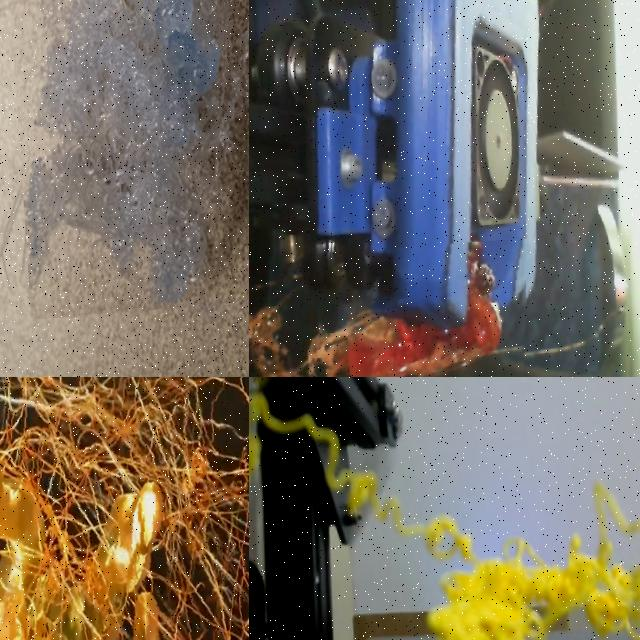spaghetti: (0, 377, 249, 640), (249, 241, 504, 377)
